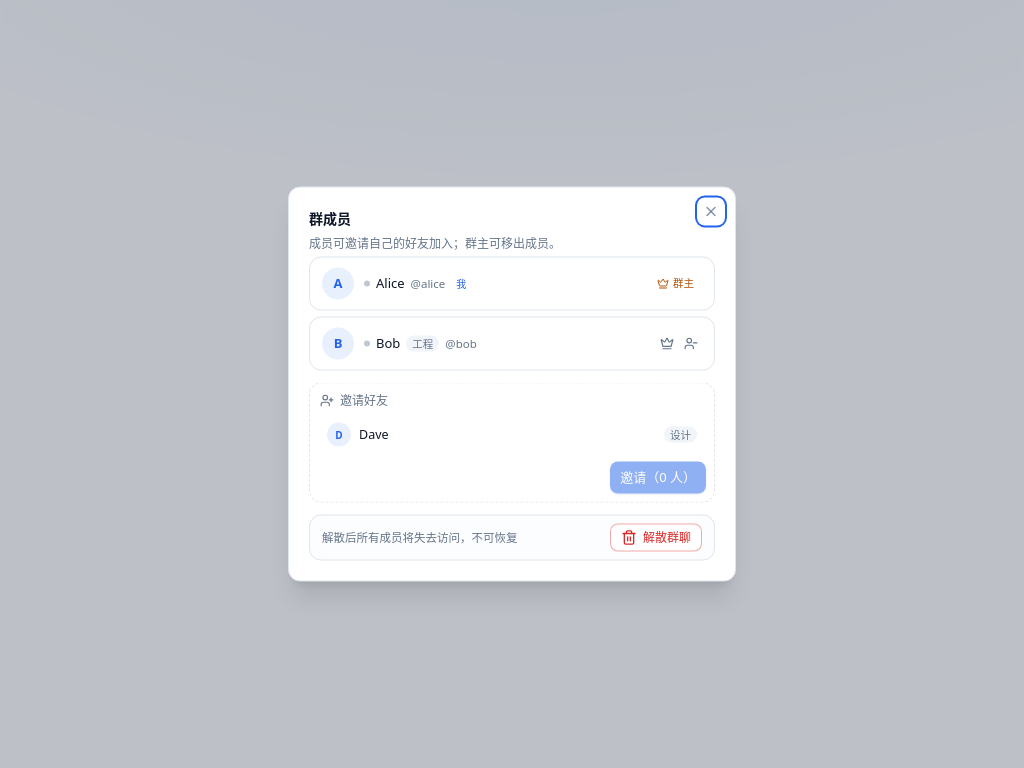
Test: M79-F：ChatMembersDialog（群） › 成员名单渲染（群主徽章 / 头衔）；邀请好友 → POST /shares（editor）→ 新成员入列
expect the text "Alice" is shown: met, box [376,274,405,293]
expect the text "群主" is shown: met, box [657,276,694,290]
Click the text "Dave" at [374, 434], box [359,425,388,442]
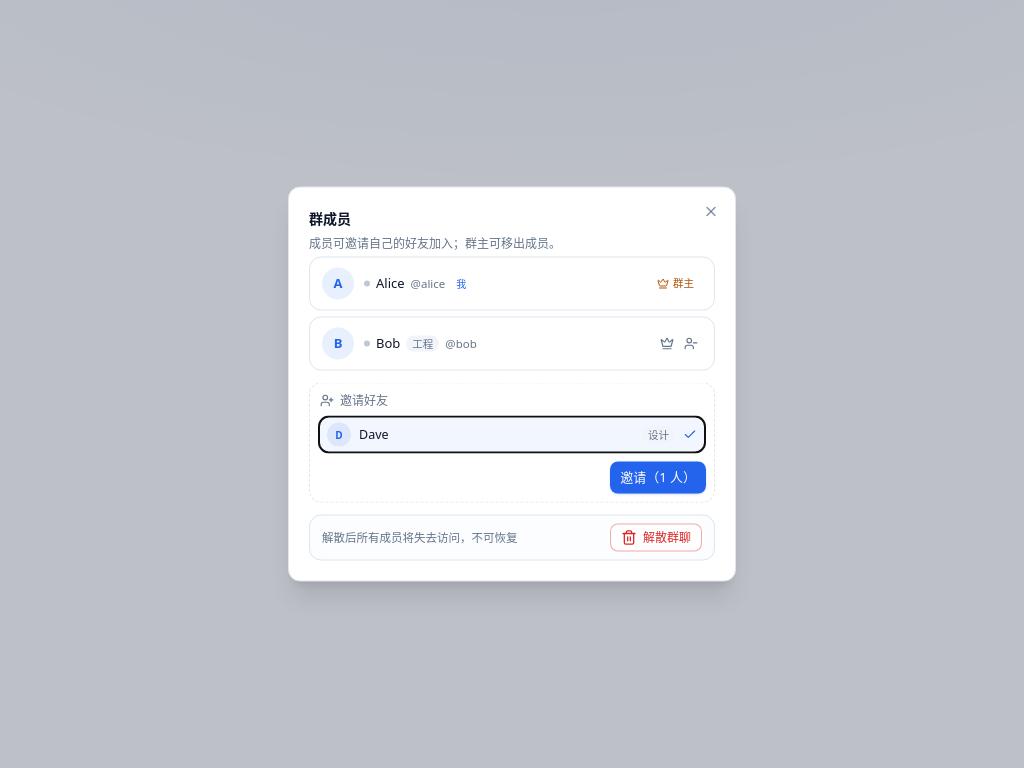
Click the button "邀请（1 人）" at [658, 478], box [610,462,706,494]
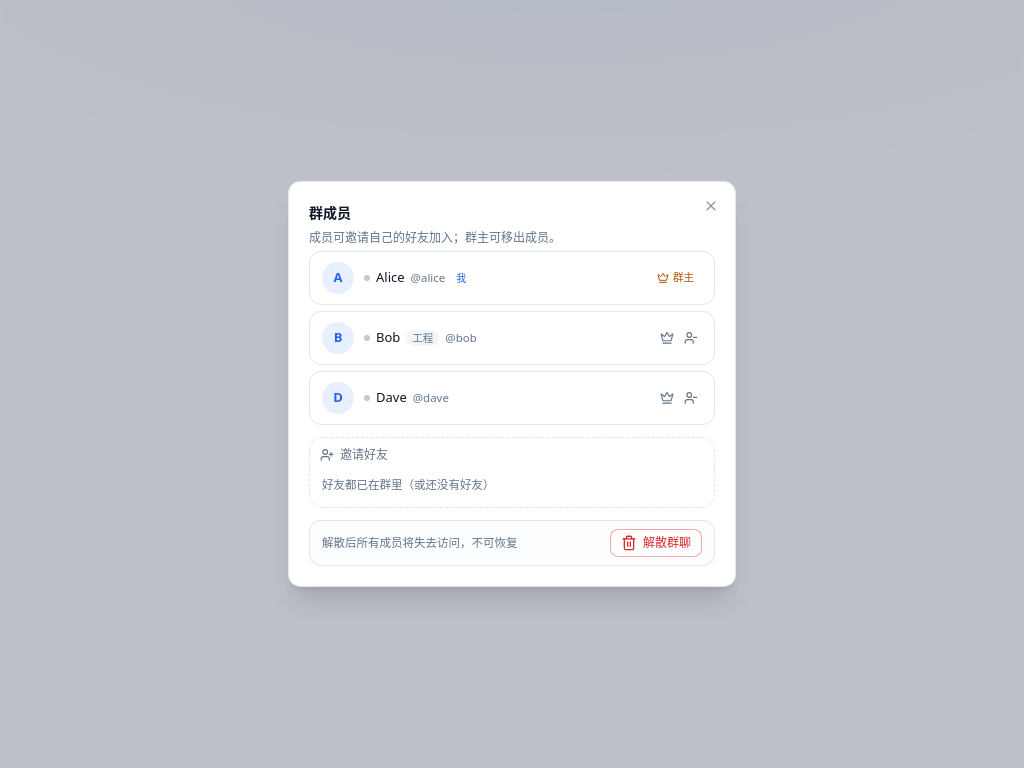
expect the text "好友都已在群里（或还没有好友）" is shown: met, box [322,477,494,492]
